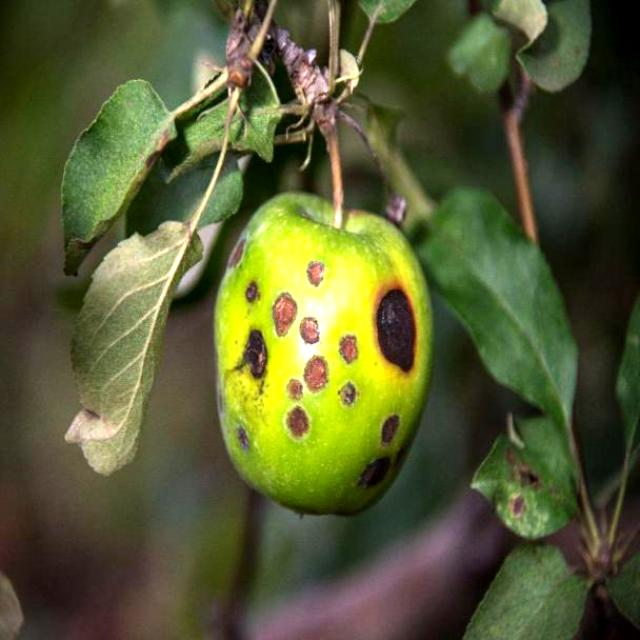SCAB: (194, 153, 453, 527)
